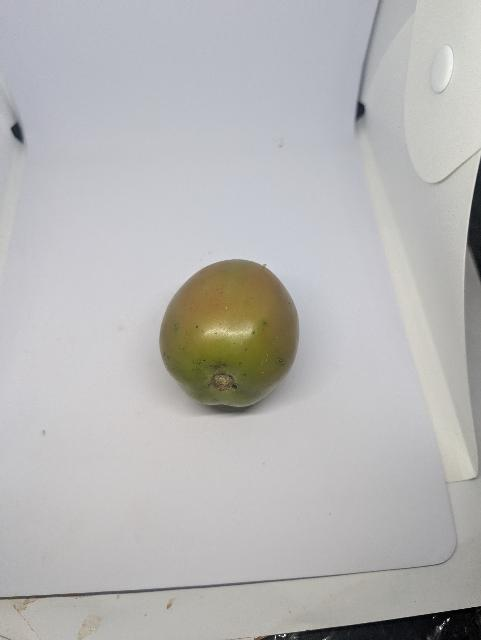breaker: (155, 251, 303, 410)
